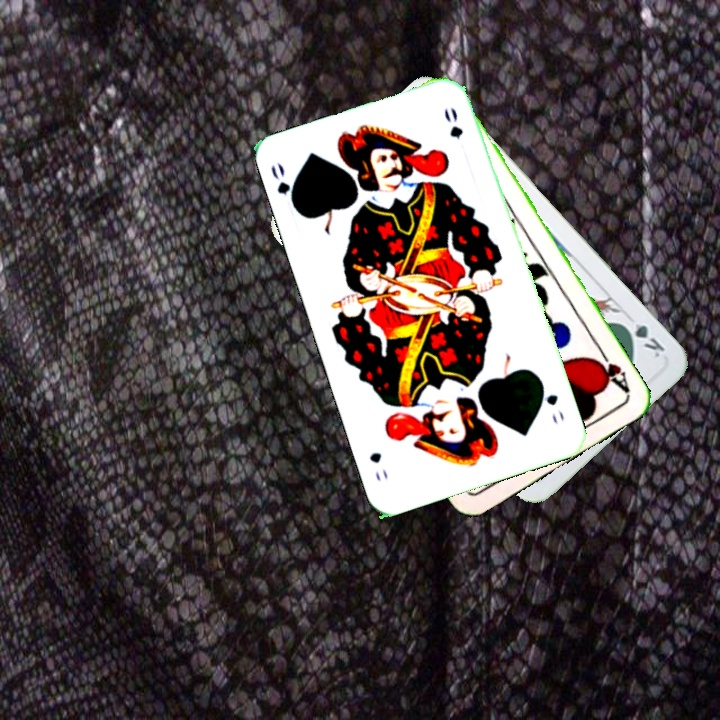GK: (617, 318, 668, 360)
GO: (267, 158, 301, 214), (536, 377, 567, 426)
HA: (587, 342, 633, 396)
